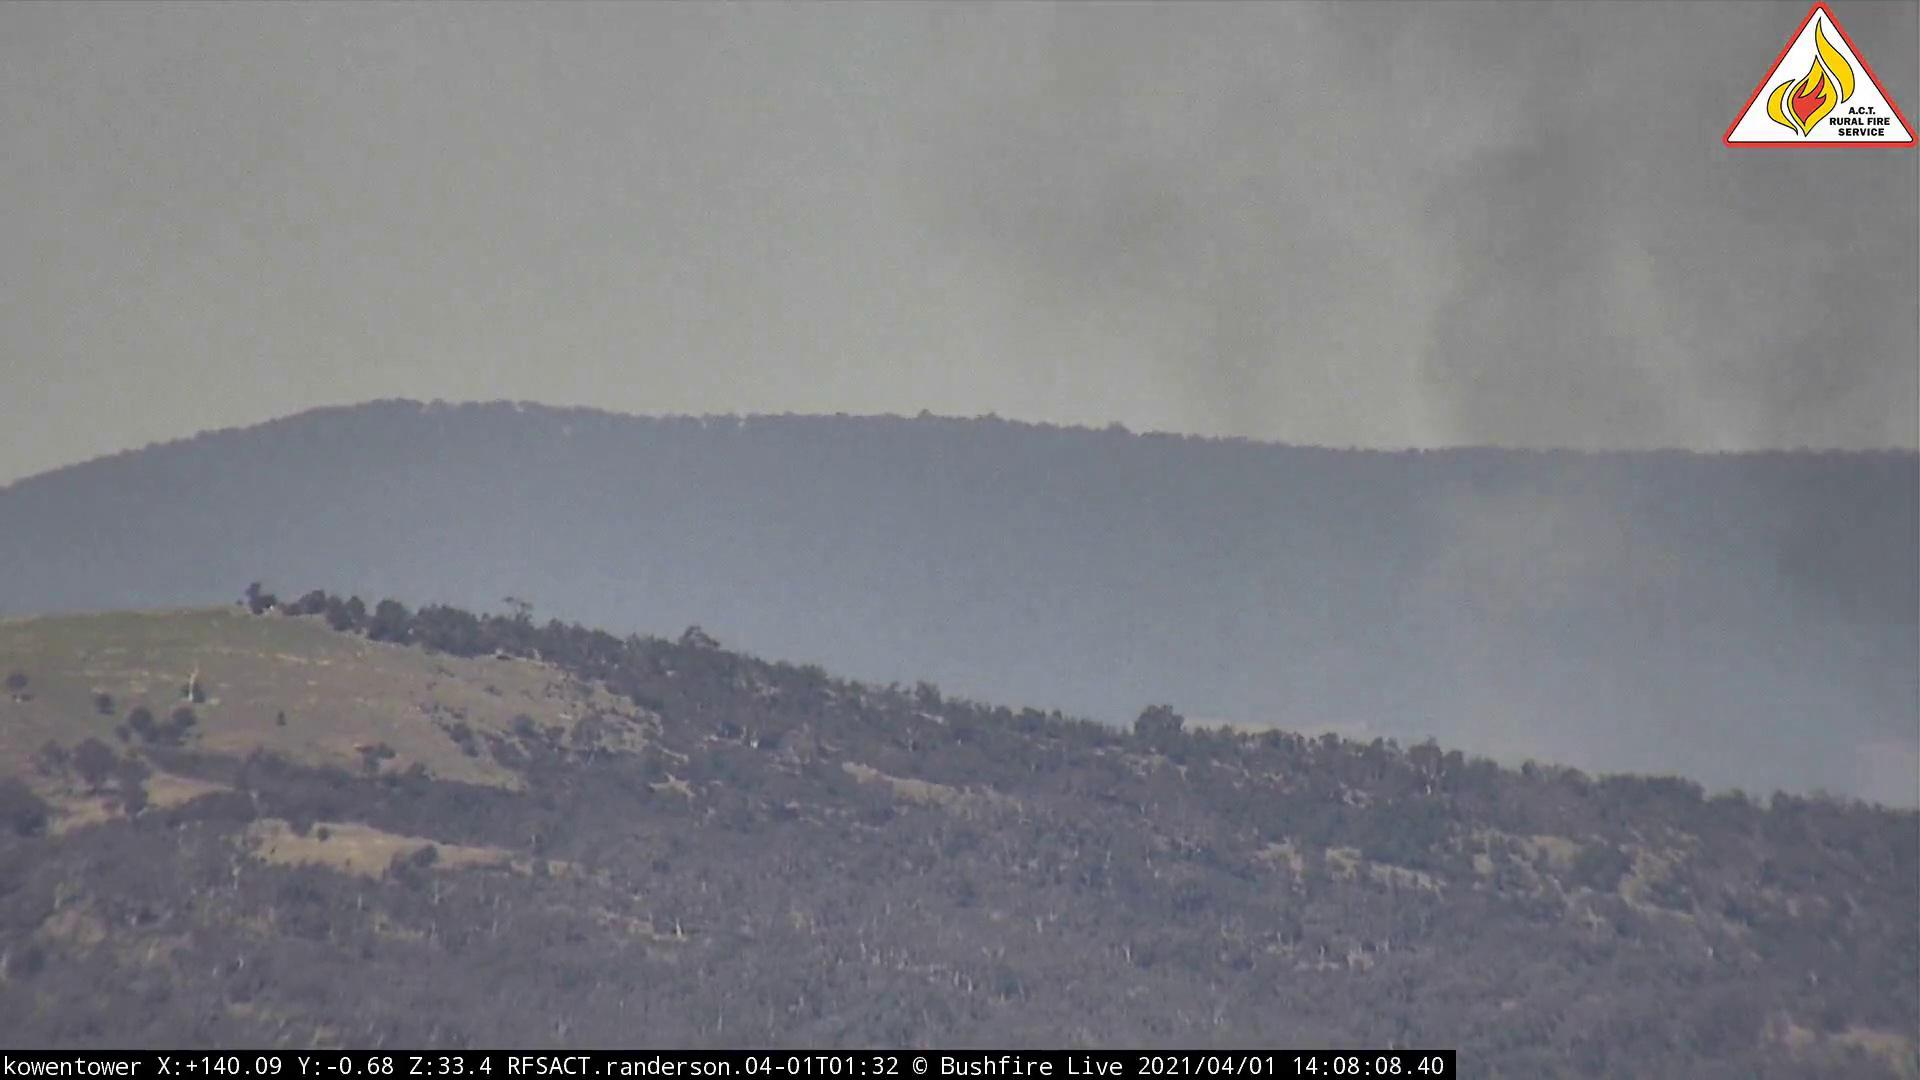Smoke: (909, 179, 1920, 822)
